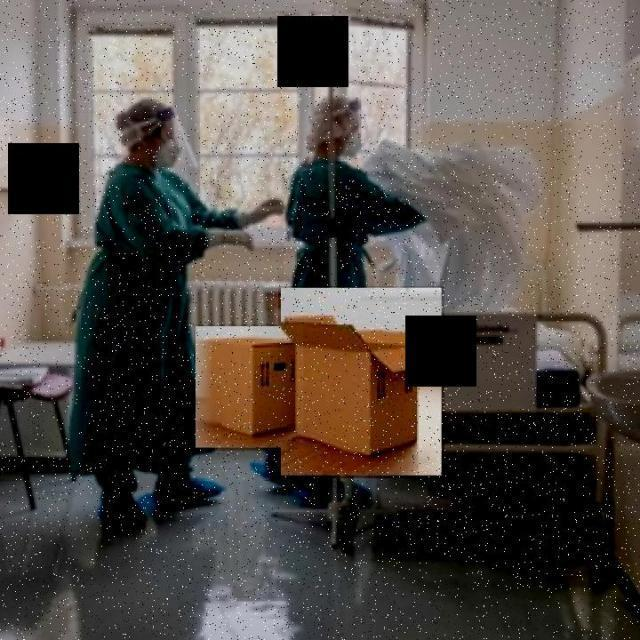box: (278, 286, 444, 478), (194, 324, 304, 450)
